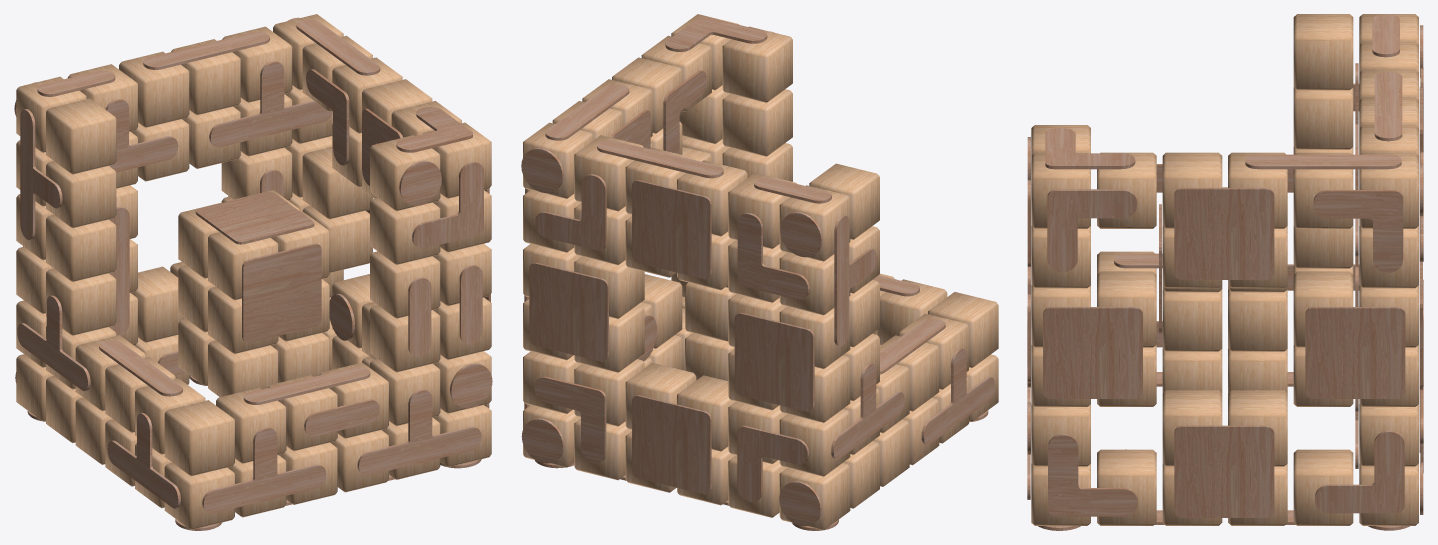
File: level_115.fbx
3 views of the same model, side by side, from view 1: azimuth 30°, elevation 25°; view 2: azimuth 150°, elevation 25°; view 3: azimuth 270°, elevation 25° (orthographic). The views are drawn at different scales.
Parts seen in each view (by area): view 1: obj_obs_square.003, Cube.330, Cube.298, obj_obs_T.001, obj_obs_T.002, obj_obs_T.008, obj_obs_square.001, Cube.328, Cube.327, Cube.329, Cube.239, Cube.105 (+83 smaller); view 2: obj_obs_square.008, obj_obs_square.007, obj_obs_square.009, obj_obs_square.010, Cube.106, Cube.105, obj_obs_L.009, obj_obs_L.007, obj_obs_L.008, obj_obs_L.006, Cube.333, Cube.298 (+72 smaller); view 3: obj_obs_square.005, obj_obs_square.002, obj_obs_square.004, obj_obs_square.006, Cube.330, obj_obs_L.005, obj_obs_L.002, obj_obs_L.001, obj_obs_L.004, Cube.329, Cube.166, Cube.080 (+44 smaller).
Boxes of the visible parts, left/top/right/bottom form: obj_obs_square.003: left=242, top=243, right=321, bottom=342; Cube.330: left=46, top=98, right=116, bottom=174; Cube.298: left=164, top=400, right=234, bottom=476; obj_obs_T.001: left=202, top=427, right=326, bottom=513; obj_obs_T.002: left=357, top=389, right=481, bottom=475; obj_obs_T.008: left=209, top=61, right=332, bottom=147; obj_obs_square.001: left=195, top=192, right=314, bottom=244; Cube.328: left=46, top=214, right=116, bottom=281; Cube.327: left=46, top=268, right=116, bottom=335; Cube.329: left=46, top=161, right=116, bottom=228; Cube.239: left=119, top=51, right=189, bottom=127; Cube.105: left=370, top=197, right=440, bottom=264; obj_obs_square.008: left=734, top=312, right=814, bottom=411; obj_obs_square.007: left=632, top=180, right=711, bottom=279; obj_obs_square.009: left=632, top=395, right=711, bottom=494; obj_obs_square.010: left=529, top=262, right=608, bottom=361; Cube.106: left=722, top=26, right=792, bottom=102; Cube.105: left=722, top=89, right=792, bottom=156; obj_obs_L.009: left=534, top=376, right=606, bottom=463; obj_obs_L.007: left=737, top=212, right=809, bottom=299; obj_obs_L.008: left=737, top=425, right=809, bottom=502; obj_obs_L.006: left=534, top=174, right=606, bottom=250; Cube.333: left=779, top=409, right=850, bottom=476; Cube.298: left=928, top=292, right=998, bottom=367; obj_obs_square.005: left=1174, top=425, right=1274, bottom=517; obj_obs_square.002: left=1174, top=188, right=1274, bottom=279; obj_obs_square.004: left=1305, top=307, right=1405, bottom=398; obj_obs_square.006: left=1043, top=307, right=1142, bottom=398; Cube.330: left=1293, top=14, right=1353, bottom=90; obj_obs_L.005: left=1047, top=189, right=1137, bottom=272; obj_obs_L.002: left=1315, top=430, right=1404, bottom=513; obj_obs_L.001: left=1313, top=190, right=1403, bottom=272; obj_obs_L.004: left=1048, top=434, right=1137, bottom=516; Cube.329: left=1293, top=87, right=1353, bottom=149; Cube.166: left=1162, top=289, right=1222, bottom=351; Cube.080: left=1293, top=449, right=1353, bottom=525.
Bounding box in the file's own units: 13.28 × 13.33 × 13.29.
